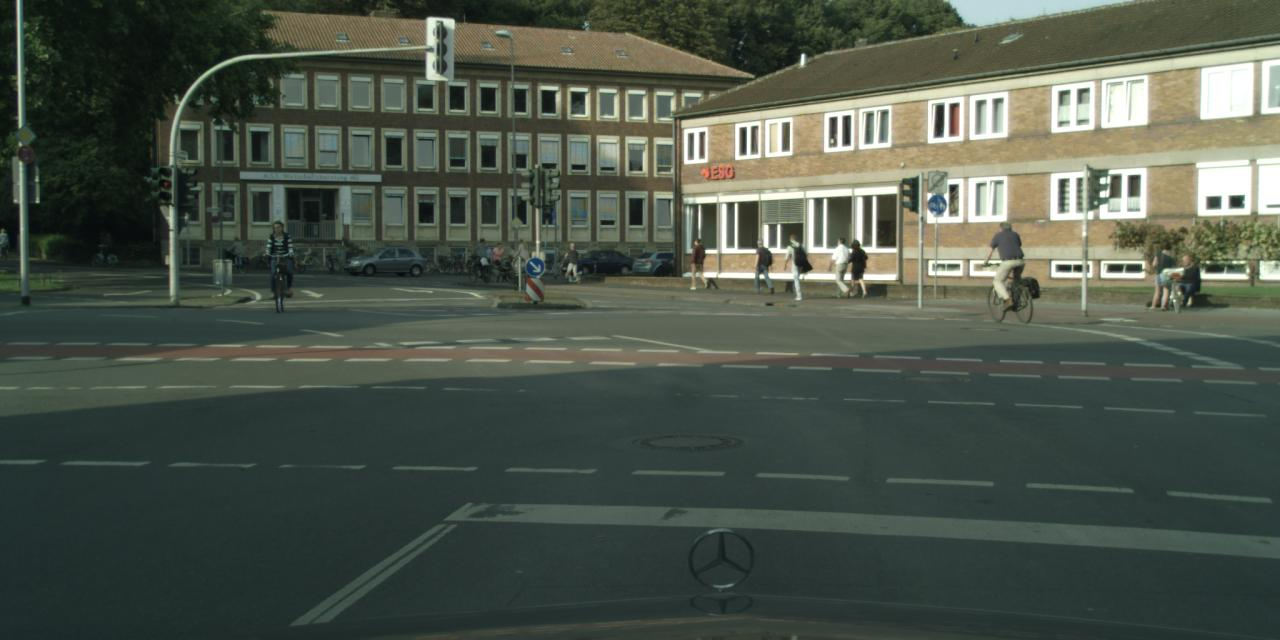ped: (990, 221, 1025, 307), (264, 220, 294, 294), (1146, 239, 1174, 309), (781, 233, 808, 299), (829, 236, 853, 296), (843, 239, 866, 296), (751, 238, 772, 291), (688, 238, 708, 286), (474, 237, 490, 275), (514, 238, 530, 276), (564, 242, 579, 282), (479, 241, 492, 274), (491, 242, 504, 274), (230, 236, 242, 266), (0, 228, 8, 257)
